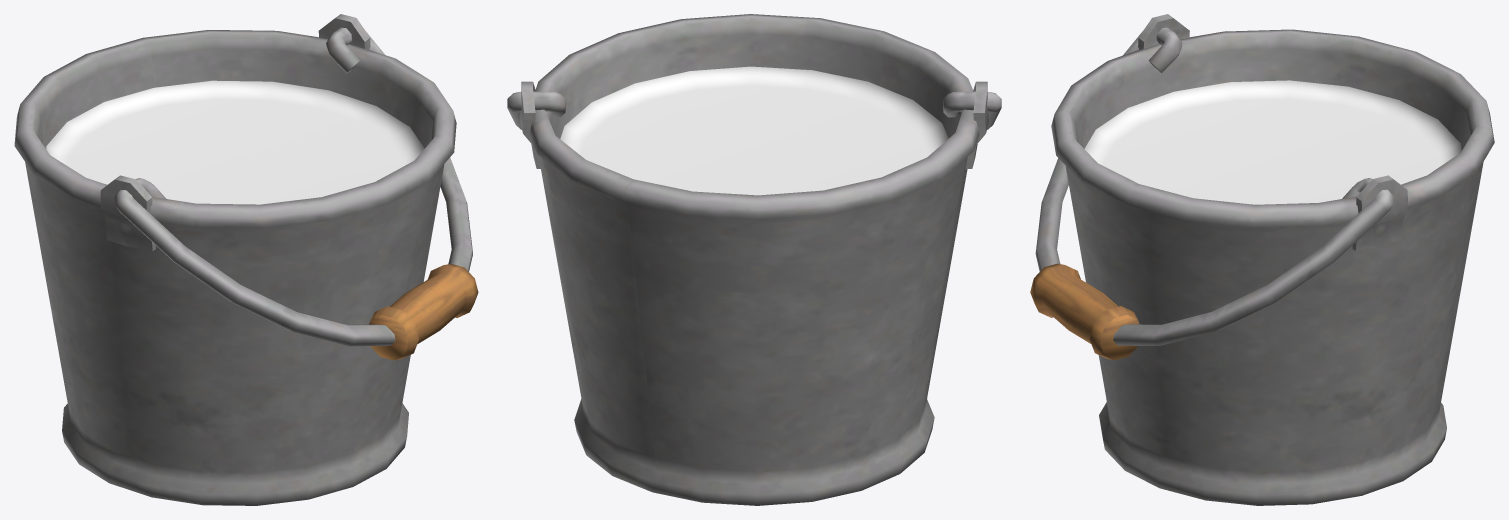
Rendered from FtrBucket.glb.
3 renders of one model, left to right at view 1: azimuth 30°, elevation 25°; view 2: azimuth 150°, elevation 25°; view 3: azimuth 270°, elevation 25°, orthographic. The views are drawn at different scales.
Parts seen in each view (by area): view 1: FtrBucket__mBody, water__mWater; view 2: FtrBucket__mBody, water__mWater; view 3: FtrBucket__mBody, water__mWater.
Boxes of the visible parts, x1,y1,x2,y2 form: FtrBucket__mBody: (14,14,478,505); water__mWater: (46,80,424,204); FtrBucket__mBody: (507,14,1001,505); water__mWater: (560,66,948,195); FtrBucket__mBody: (1030,14,1494,505); water__mWater: (1084,80,1461,204).
Bounding box in the file's own units: 6.46 × 5.21 × 6.48.
Materials: 2 (1 with a texture image).
